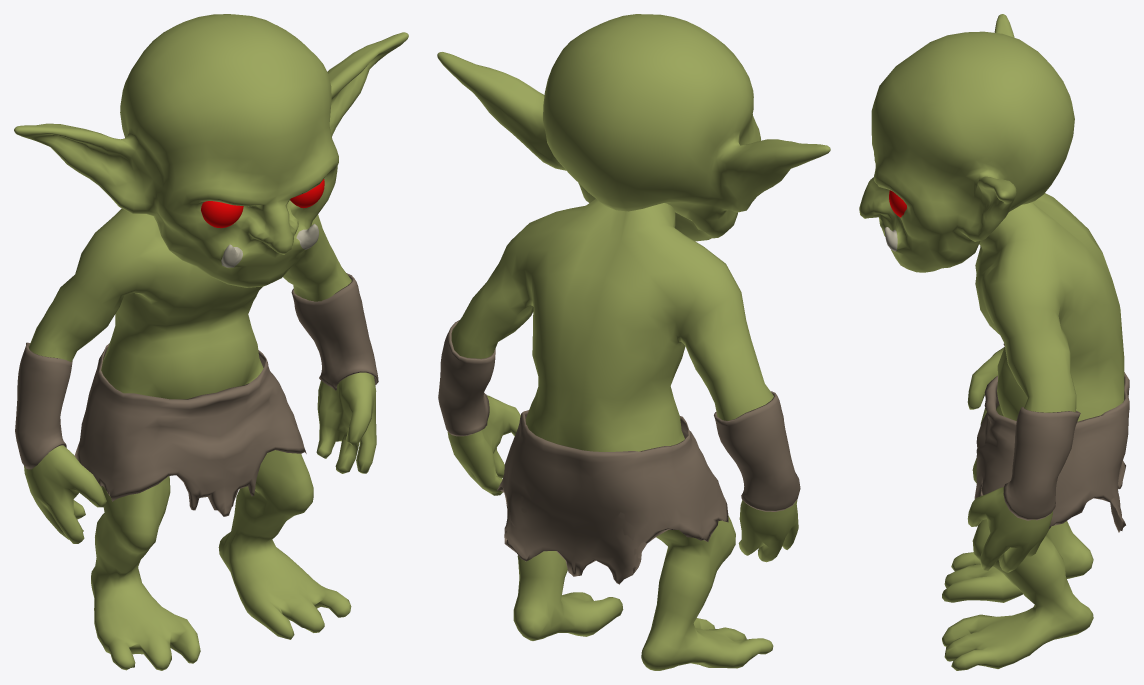
Rendered from Goblin_Test.fbx.
3 views of the same model, side by side, from view 1: azimuth 30°, elevation 25°; view 2: azimuth 150°, elevation 25°; view 3: azimuth 270°, elevation 25° (orthographic). The views are drawn at different scales.
Visible parts, largest first — view 1: Goblin_Body, Goblin_Head, Goblin_Cloth, Goblin_Eyes; view 2: Goblin_Body, Goblin_Head, Goblin_Cloth; view 3: Goblin_Body, Goblin_Head, Goblin_Cloth.
Part boxes in pixels (left/top/right/bottom): Goblin_Body: left=24, top=208, right=376, bottom=670; Goblin_Head: left=14, top=14, right=408, bottom=287; Goblin_Cloth: left=15, top=273, right=378, bottom=516; Goblin_Eyes: left=201, top=179, right=324, bottom=228; Goblin_Body: left=447, top=198, right=798, bottom=670; Goblin_Head: left=437, top=14, right=830, bottom=241; Goblin_Cloth: left=438, top=320, right=800, bottom=584; Goblin_Body: left=942, top=193, right=1124, bottom=670; Goblin_Head: left=859, top=14, right=1074, bottom=272; Goblin_Cloth: left=974, top=343, right=1129, bottom=532.
Size of the model in its own units: 1.71 by 2.56 by 1.08.
